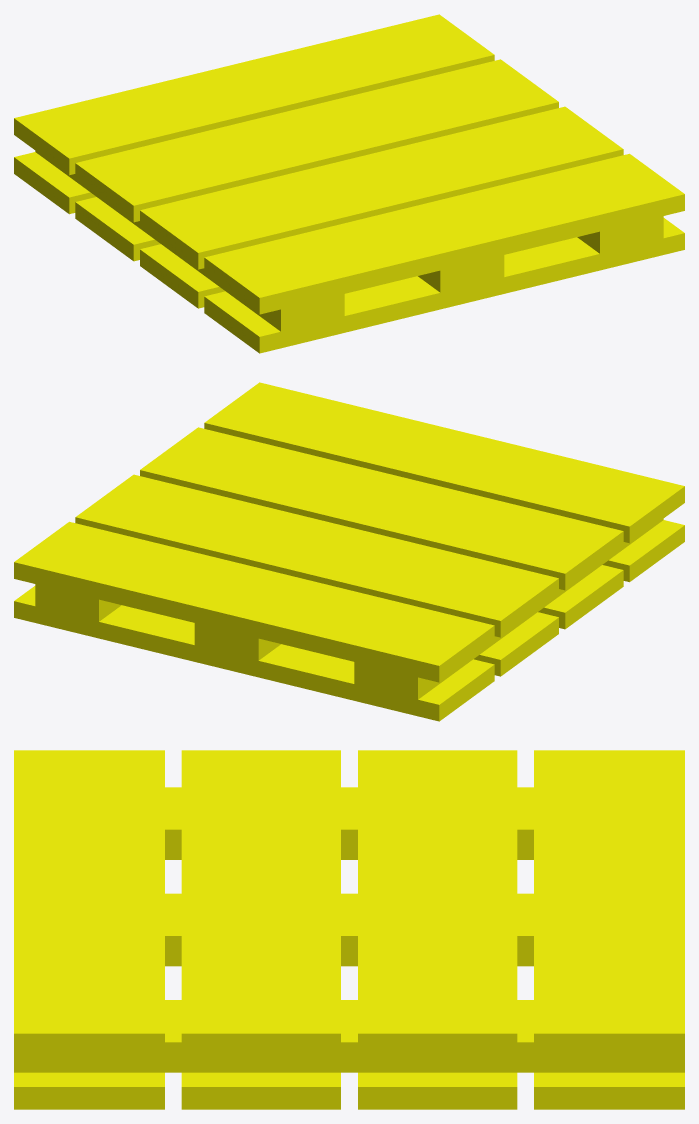
The model's file is kaykit-pallet-large.glb.
3 views of the same model, one above another, from view 1: azimuth 30°, elevation 25°; view 2: azimuth 150°, elevation 25°; view 3: azimuth 270°, elevation 25° (orthographic). The views are drawn at different scales.
Parts seen in each view (by area): view 1: Pallet_Large; view 2: Pallet_Large; view 3: Pallet_Large.
Part boxes in pixels (x1,y1,x2,y2): Pallet_Large: (14, 14, 684, 353); Pallet_Large: (14, 382, 684, 721); Pallet_Large: (14, 750, 684, 1109).
Bounding box in the file's own units: 4 × 0.5 × 4.
